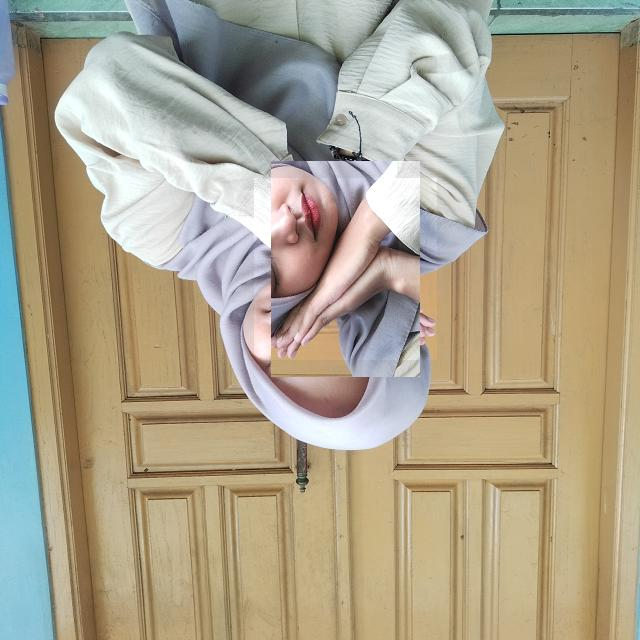tidur: (254, 178, 437, 360)
